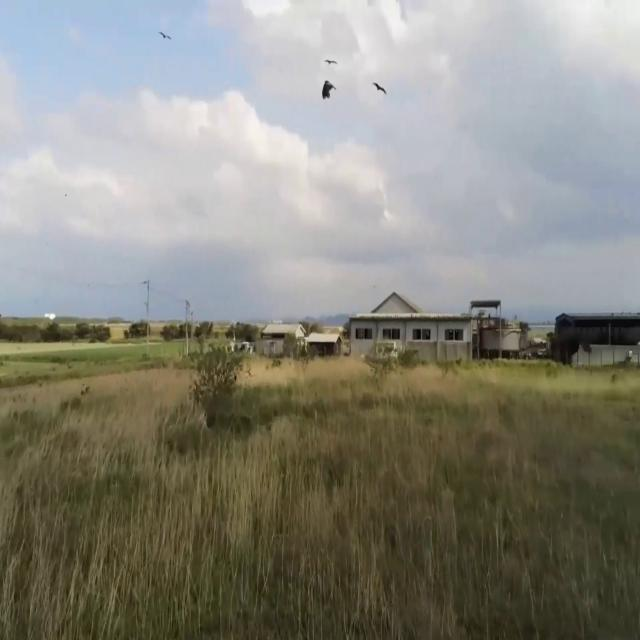bird: (320, 70, 337, 114), (372, 72, 386, 107), (158, 21, 171, 50), (324, 51, 336, 72)
